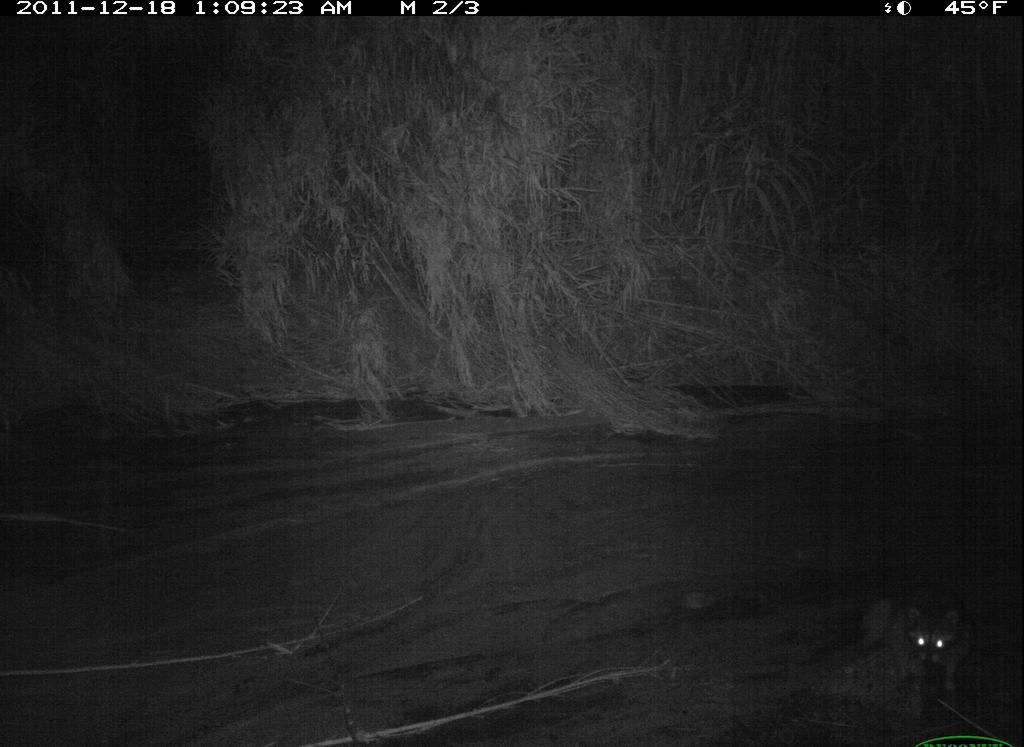raccoon: (840, 566, 995, 713)
